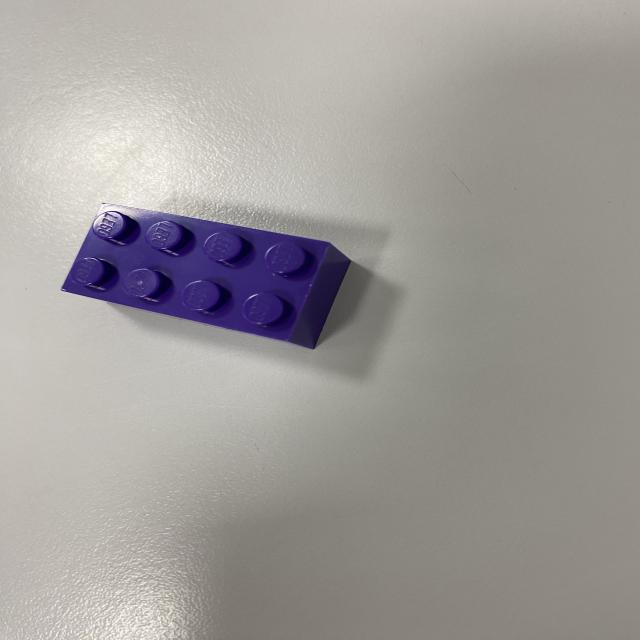C4x2x1: (58, 202, 339, 347)
